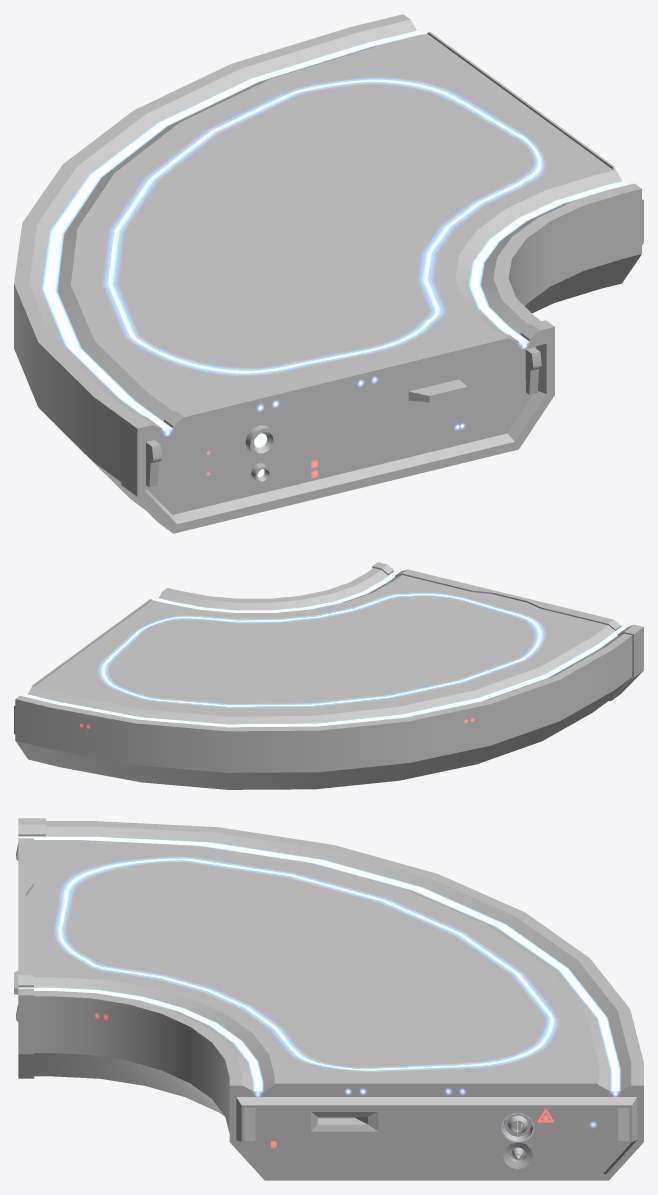
Rendered from TurnRight_Caps.fbx.
3 views of the same model, one above another, from view 1: azimuth 30°, elevation 25°; view 2: azimuth 150°, elevation 25°; view 3: azimuth 270°, elevation 25° (orthographic). The views are drawn at different scales.
Visible parts, largest first — view 1: TurnRight_Caps; view 2: TurnRight_Caps; view 3: TurnRight_Caps.
Part boxes in pixels (x1=…): TurnRight_Caps: x1=14, y1=14, x2=643, y2=533; TurnRight_Caps: x1=14, y1=562, x2=643, y2=789; TurnRight_Caps: x1=14, y1=818, x2=643, y2=1180.
Size of the model in its own units: 3.91 by 0.6517 by 3.76.
